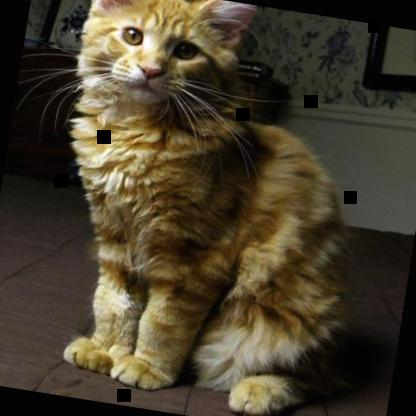cat: (21, 0, 400, 415)
